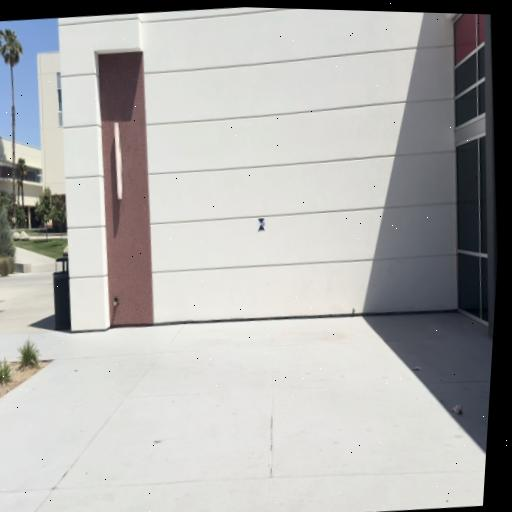target0: (256, 217, 266, 232)
